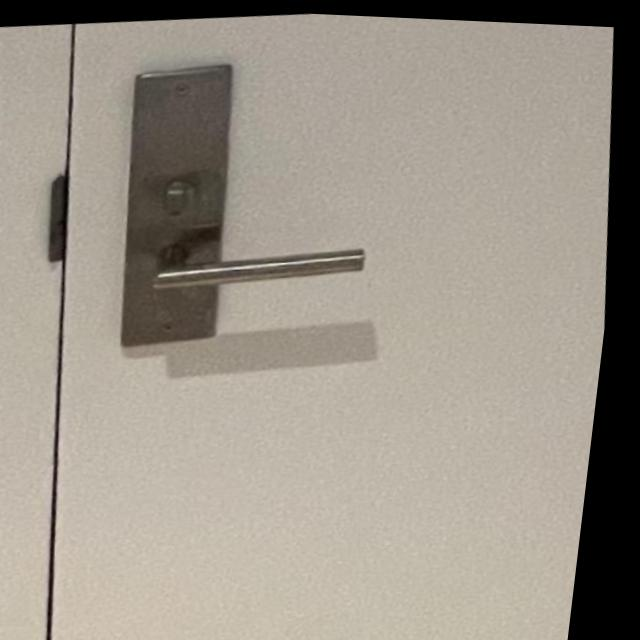door_handle: (122, 206, 407, 316)
